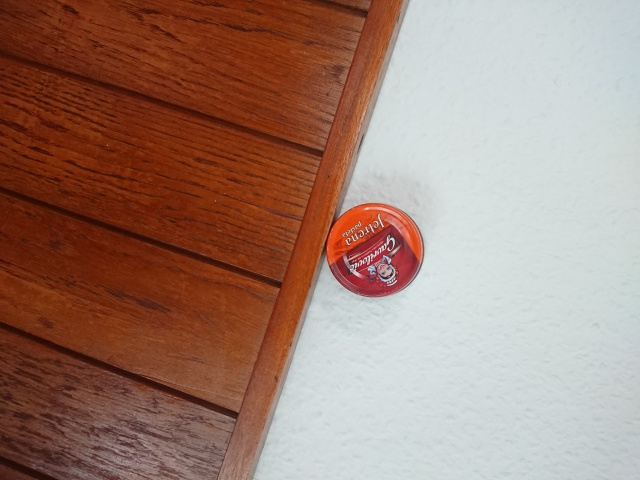Gavrilovic Pork Liver Pate 100g: (323, 200, 427, 300)
